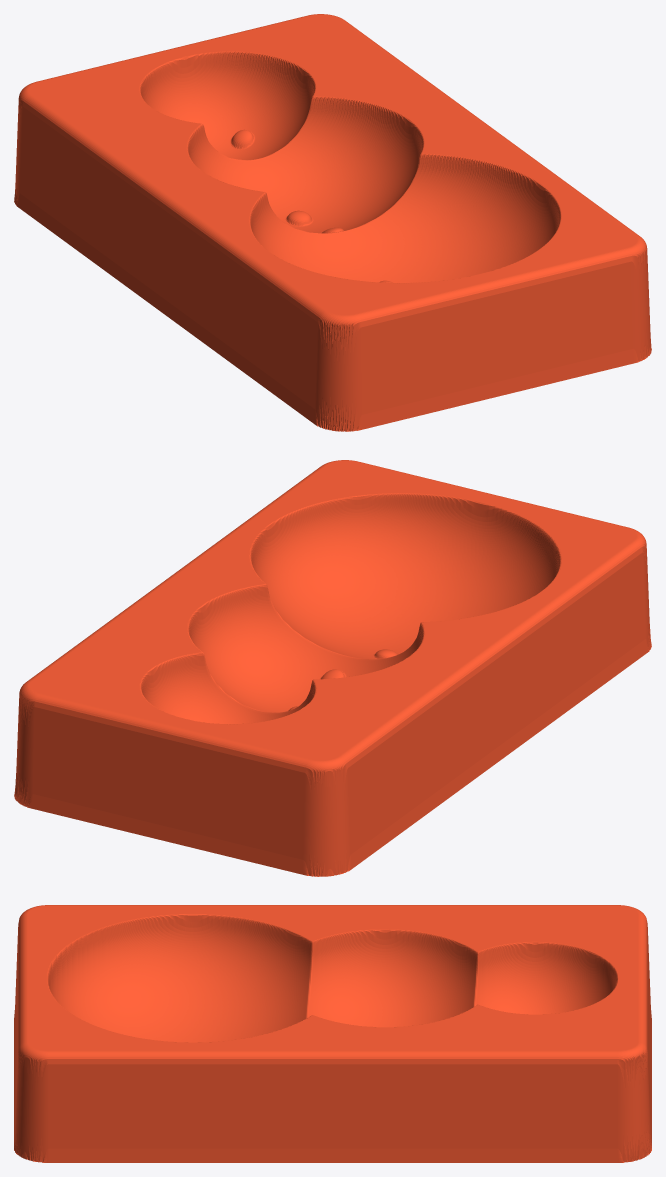
The model's file is mold.glb.
The picture shows the model from 3 angles, top to bottom: view 1: azimuth 30°, elevation 25°; view 2: azimuth 150°, elevation 25°; view 3: azimuth 270°, elevation 25°; orthographic projection. The views are drawn at different scales.
Parts seen in each view (by area): view 1: geometry_0; view 2: geometry_0; view 3: geometry_0.
Boxes of the visible parts, x1,y1,x2,y2 form: geometry_0: (14, 14, 651, 431); geometry_0: (14, 460, 651, 876); geometry_0: (14, 905, 651, 1162).
Bounding box in the file's own units: 0.0979 × 0.031 × 0.1686.
